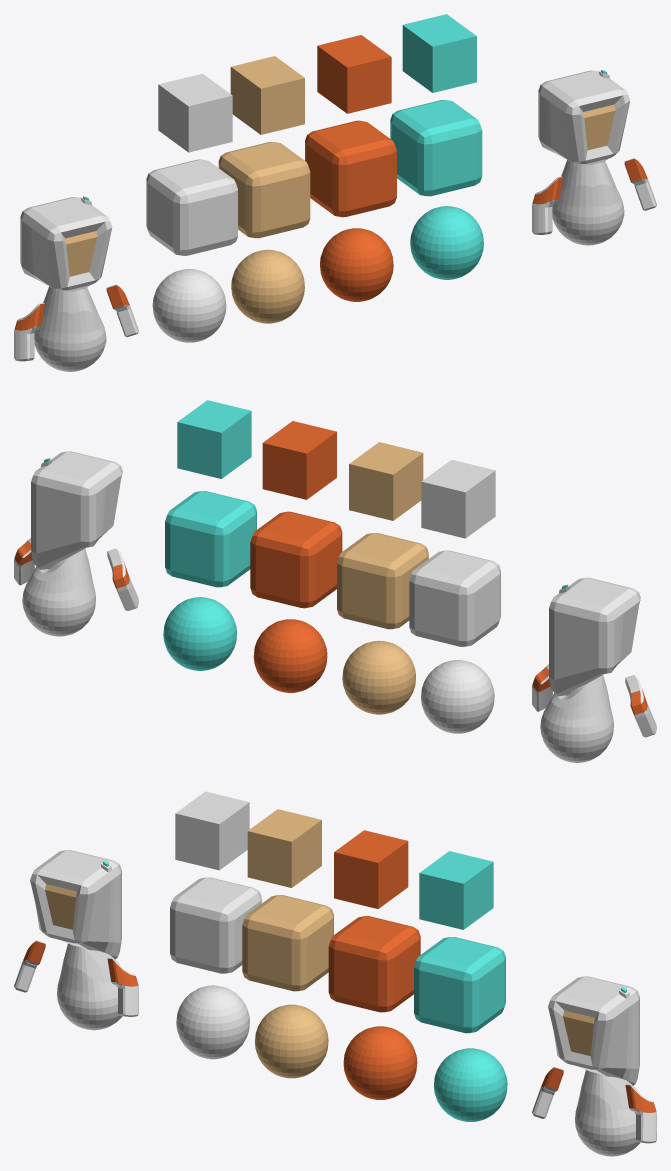
Rendered from paletteTest1.glb.
3 views of the same model, one above another, from view 1: azimuth 30°, elevation 25°; view 2: azimuth 150°, elevation 25°; view 3: azimuth 330°, elevation 25° (orthographic).
Visible parts, largest first — view 1: Sphere; view 2: Sphere; view 3: Sphere.
Part boxes in pixels (x1=…): Sphere: x1=14, y1=14, x2=656, y2=371; Sphere: x1=14, y1=400, x2=656, y2=762; Sphere: x1=14, y1=791, x2=656, y2=1156.
Bounding box in the file's own units: 20.03 × 7.5 × 2.38.
